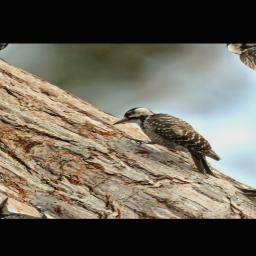Woodpecker: (98, 98, 254, 185)
